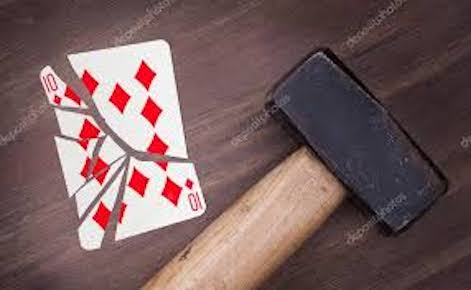TenOfDiamonds: (38, 36, 210, 252)
